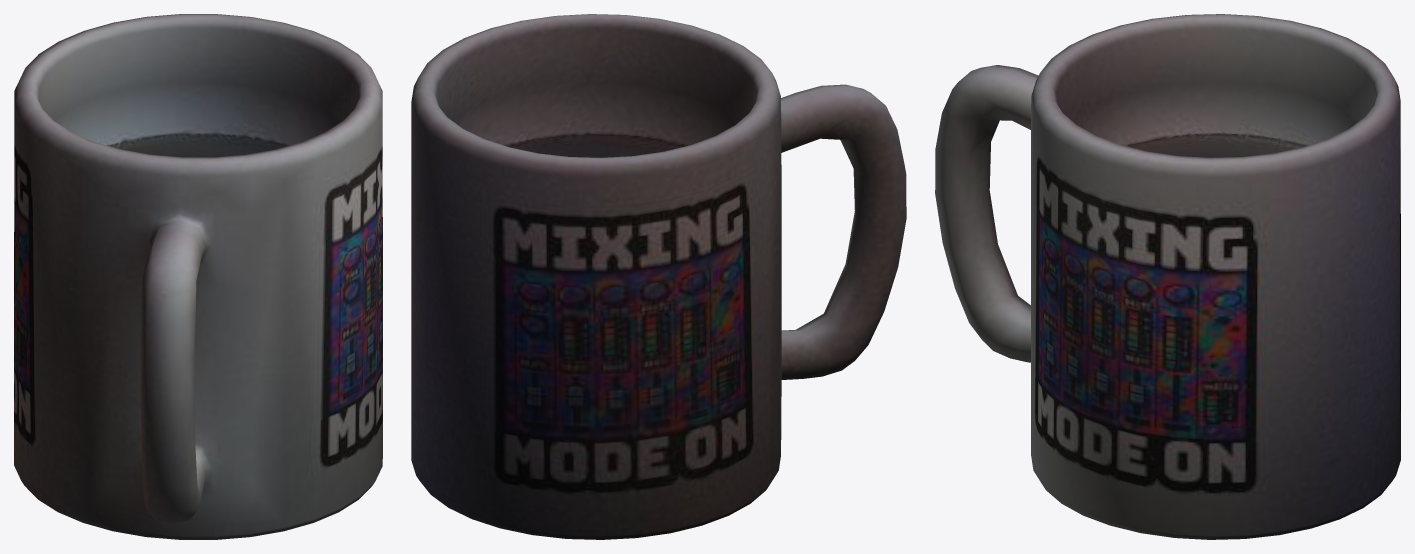
Rendered from coffee.glb.
3 renders of one model, left to right at view 1: azimuth 30°, elevation 25°; view 2: azimuth 150°, elevation 25°; view 3: azimuth 270°, elevation 25°, orthographic.
Visible parts, largest first — view 1: CoffeMugBAKING; view 2: CoffeMugBAKING; view 3: CoffeMugBAKING.
Boxes of the visible parts, x1=… form: CoffeMugBAKING: x1=14, y1=14, x2=382, y2=539; CoffeMugBAKING: x1=411, y1=14, x2=906, y2=539; CoffeMugBAKING: x1=935, y1=14, x2=1400, y2=539.
Bounding box in the file's own units: 0.1319 × 0.1394 × 0.1557.
Materials: 1 (1 with a texture image).
